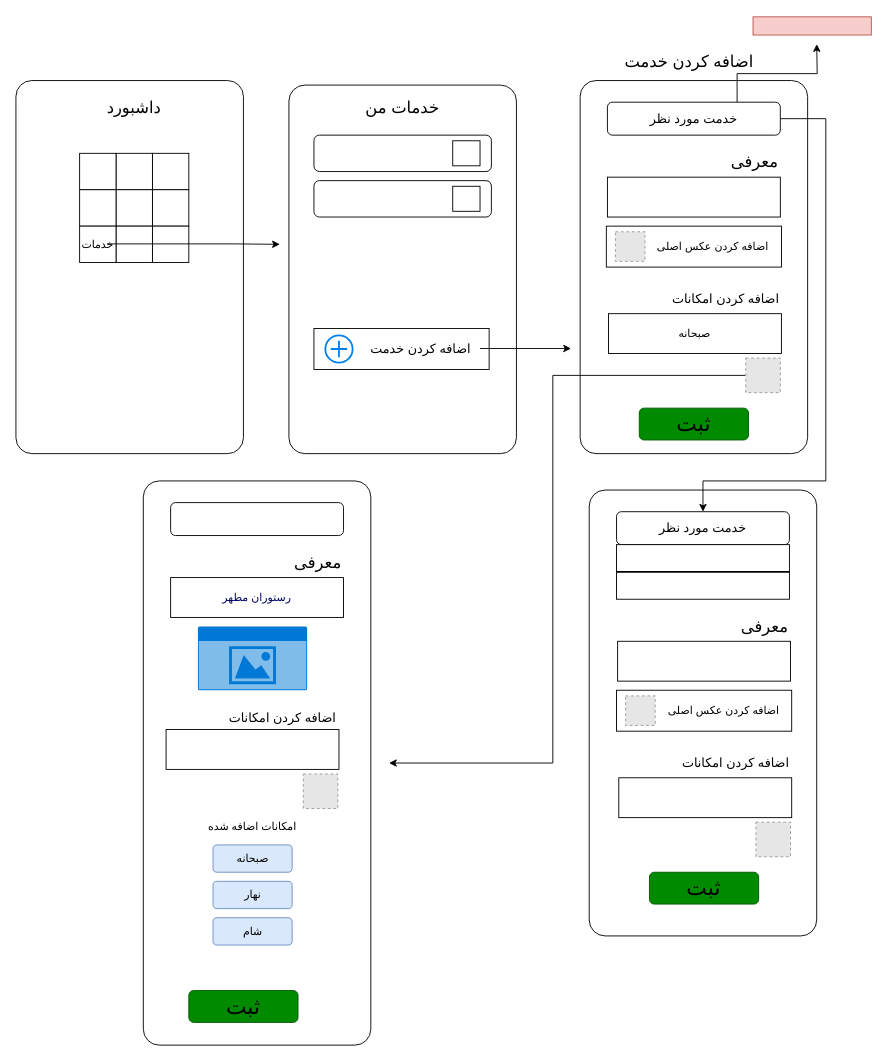
This 887x1061 diagram has some shape labels left out. Grey dashed boxes stand in for pictures. The shapes that lost their labels are listed below. From the top down, each one's box as (x1, y1, x2, y2) in pixels, then its label:
(752, 16, 871, 35): دراپ داون
(170, 502, 344, 536): رستوران
(616, 544, 789, 599): کافی شاپ
(197, 626, 307, 690): Photo
